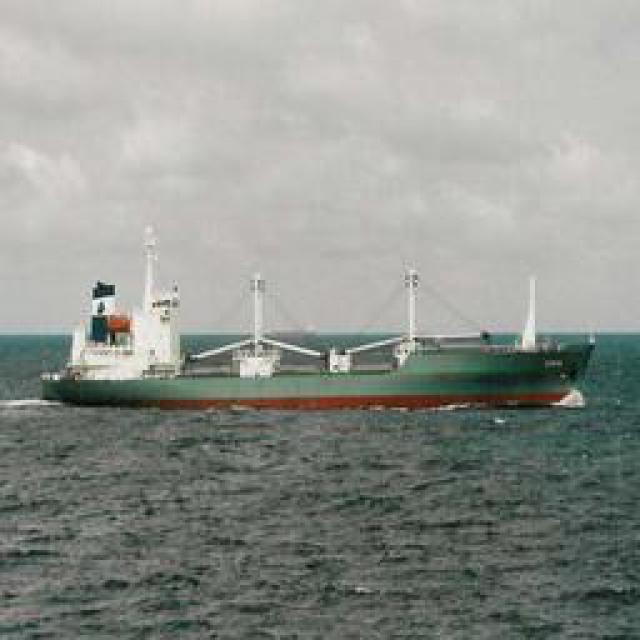Ship: (25, 245, 605, 410)
